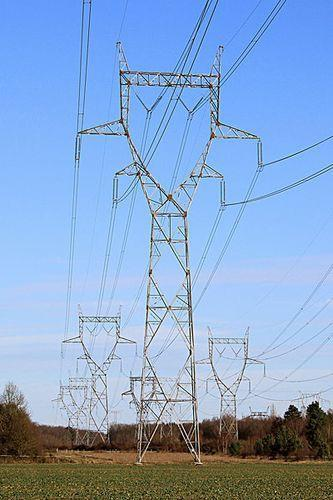power_tower: (76, 44, 263, 471), (199, 325, 264, 453), (80, 302, 134, 453)
